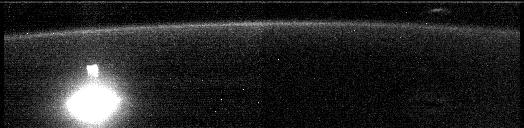positive: (83, 63, 101, 81)
